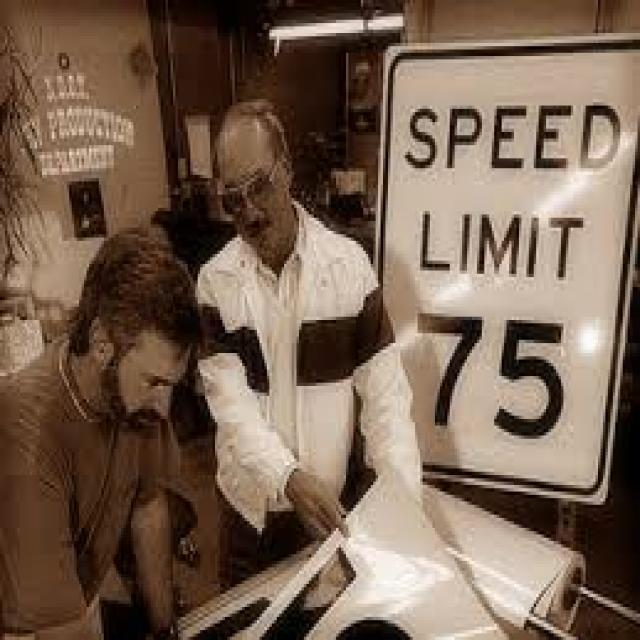speedLimit75: (371, 33, 630, 502)
